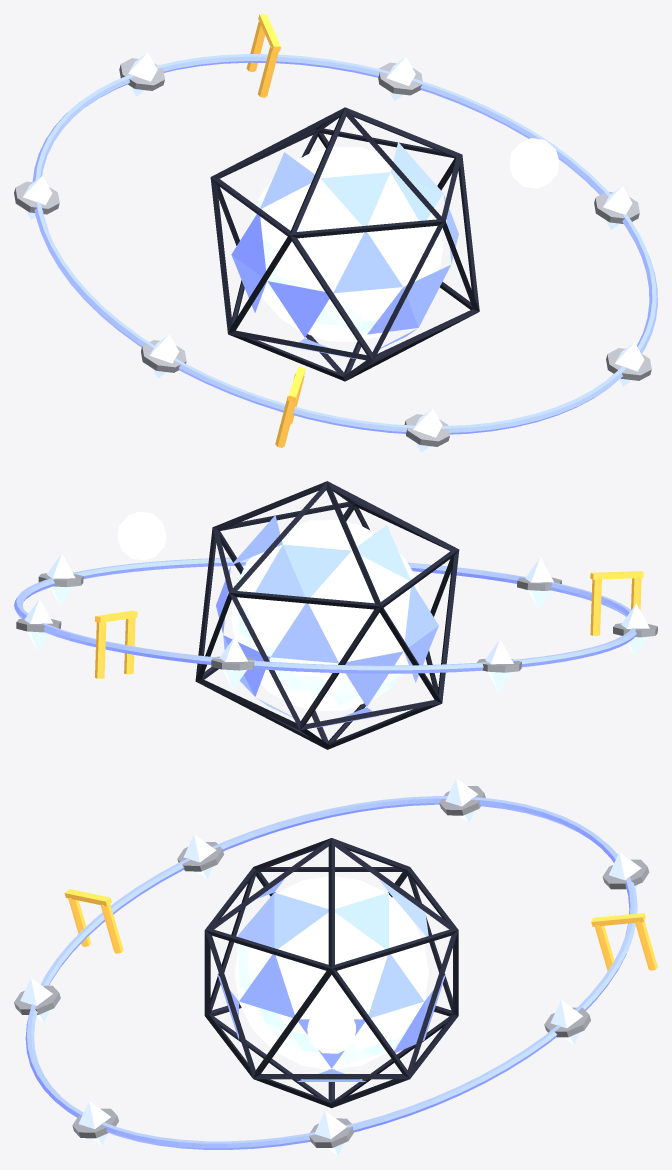
File: sirius-star.glb
3 renders of one model, top to bottom at view 1: azimuth 30°, elevation 25°; view 2: azimuth 150°, elevation 25°; view 3: azimuth 270°, elevation 25°, orthographic. The views are drawn at different scales.
Parts seen in each view (by area): view 1: StarCore, Cage, Corona, Pipeline, Companion, Gate1, Agent5, Agent6, Agent1, Agent2, Agent3, Agent4 (+2 smaller); view 2: StarCore, Cage, Corona, Pipeline, Companion, Gate1, Gate4, Agent2, Agent3, Agent5, Agent0, Agent1 (+1 smaller); view 3: Cage, StarCore, Pipeline, Corona, Companion, Gate1, Gate4, Agent0, Agent4, Agent5, Agent3, Agent1 (+2 smaller).
Boxes of the visible parts, x1,y1,x2,y2 form: StarCore: (249, 147, 443, 341); Cage: (210, 107, 479, 381); Corona: (231, 142, 458, 359); Pipeline: (32, 54, 657, 434); Companion: (509, 138, 558, 188); Gate1: (246, 14, 280, 97); Agent5: (404, 408, 449, 452); Agent6: (606, 342, 651, 386); Agent1: (378, 57, 422, 100); Agent2: (119, 52, 164, 96); Agent3: (14, 176, 59, 219); Agent4: (141, 334, 186, 378); StarCore: (231, 520, 420, 710); Cage: (195, 481, 459, 749); Corona: (216, 515, 438, 727); Pipeline: (14, 557, 636, 673); Companion: (117, 511, 166, 560); Gate1: (95, 610, 137, 678); Gate4: (590, 571, 643, 635); Agent2: (211, 636, 256, 689); Agent3: (477, 639, 521, 691); Agent5: (517, 557, 561, 609); Agent0: (38, 553, 83, 605); Agent1: (16, 598, 61, 651); Cage: (204, 838, 458, 1108); StarCore: (234, 876, 428, 1069); Pipeline: (25, 796, 637, 1149); Corona: (217, 878, 446, 1081); Companion: (307, 1005, 355, 1053); Gate1: (591, 913, 657, 970); Gate4: (64, 889, 123, 953); Agent0: (309, 1111, 354, 1155); Agent4: (177, 834, 223, 878); Agent5: (14, 978, 60, 1022); Agent3: (439, 778, 485, 822); Agent1: (544, 1000, 590, 1044).
Bounding box in the file's own units: 6.65 × 3.07 × 6.62.
